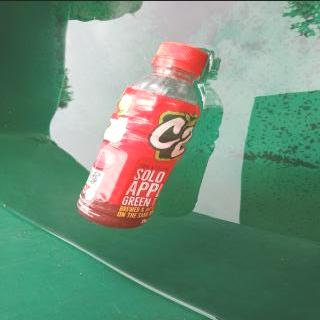bottle: (75, 40, 212, 229)
